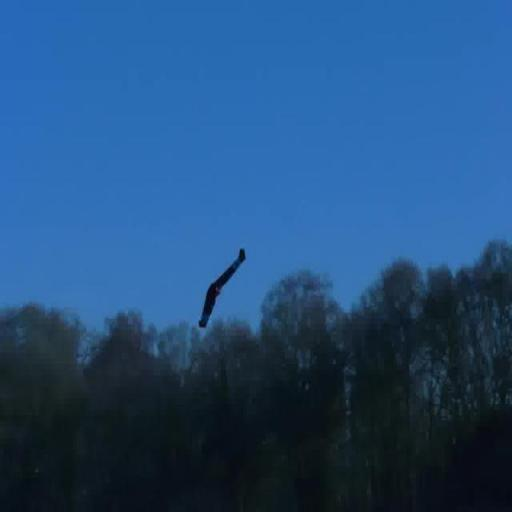uav: (196, 246, 250, 336)
